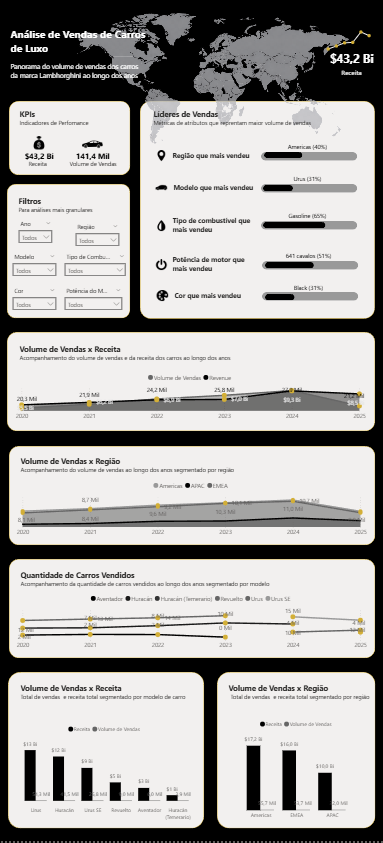

The dashboard page shown, as its layout file describes it:
{"tool":"powerbi","page":{"name":"Página 1","canvas":[800,2000],"ordinal":0},"visuals":[{"type":"shape","box":[450,1399.2,329.2,325],"z":0},{"type":"shape","box":[290.8,211.7,488.3,452.5],"z":1000},{"type":"shape","box":[16.7,1399.2,407.5,325],"z":2000},{"type":"image","box":[150.8,0,588.3,375],"z":3000},{"type":"textbox","box":[16,53,319,71],"z":4000},{"type":"textbox","box":[16,124,286,71],"z":5000},{"type":"card","fields":{"Values":["lamborghini_sales_2020_2025.Revenue"]},"box":[660,98,140,72],"z":6000},{"type":"lineChart","fields":{"Y":["lamborghini_sales_2020_2025.Revenue"],"Category":["lamborghini_sales_2020_2025.Year"]},"box":[668,48,132,76],"z":7000},{"type":"shape","box":[18,212,252,154],"z":8000},{"type":"card","fields":{"Values":["lamborghini_sales_2020_2025.Revenue"]},"box":[36,315,92,42],"z":9000},{"type":"card","fields":{"Values":["Sum(lamborghini_sales_2020_2025.Sales Volume)"]},"box":[123.3,315.8,140,42.5],"z":10000},{"type":"textbox","box":[36,222,212,36],"z":11000},{"type":"image","box":[148,280,88,43],"z":12000},{"type":"image","box":[55,284,53,28],"z":13000},{"type":"shape","box":[14,385,256,279],"z":14000},{"type":"textbox","box":[33,403,203,36],"z":15000},{"type":"textbox","box":[36,243,193,36],"z":16000},{"type":"textbox","box":[33,424,203,36],"z":17000},{"type":"textbox","box":[139,329,124,36],"z":18000},{"type":"textbox","box":[55,329,69,36],"z":19000},{"type":"slicer","fields":{"Values":["lamborghini_sales_2020_2025.Year"]},"box":[29,453,89,58],"z":20000},{"type":"slicer","fields":{"Values":["lamborghini_sales_2020_2025.Region"]},"box":[148,460,110,58],"z":21000},{"type":"slicer","fields":{"Values":["lamborghini_sales_2020_2025.Fuel Type"]},"box":[124,521,146,58],"z":22000},{"type":"slicer","fields":{"Values":["lamborghini_sales_2020_2025.Model"]},"box":[16,521,110,58],"z":23000},{"type":"slicer","fields":{"Values":["lamborghini_sales_2020_2025.Color"]},"box":[16,592,110,58],"z":24000},{"type":"slicer","fields":{"Values":["lamborghini_sales_2020_2025.Horsepower"]},"box":[124,592,139,58],"z":25000},{"type":"shape","box":[14,692,765,206],"z":26000},{"type":"textbox","box":[35,710,319,36],"z":27000},{"type":"textbox","box":[35,731,508,36],"z":28000},{"type":"lineChart","fields":{"Category":["lamborghini_sales_2020_2025.Year"],"Y":["Sum(lamborghini_sales_2020_2025.Sales Volume)"],"Y2":["lamborghini_sales_2020_2025.Revenue"]},"box":[27,767,738,118],"z":29000},{"type":"shape","box":[18,928,761,206],"z":30000},{"type":"lineChart","fields":{"Category":["lamborghini_sales_2020_2025.Year"],"Y":["Sum(lamborghini_sales_2020_2025.Sales Volume)"],"Series":["lamborghini_sales_2020_2025.Region"]},"box":[29,991,738,135],"z":31000},{"type":"textbox","box":[37,944,319,36],"z":32000},{"type":"textbox","box":[37,965,508,36],"z":33000},{"type":"clusteredColumnChart","fields":{"Category":["lamborghini_sales_2020_2025.Model"],"Y":["lamborghini_sales_2020_2025.Revenue","Sum(lamborghini_sales_2020_2025.Sales Volume)"]},"box":[14.2,1497.5,407.5,216.7],"z":34000},{"type":"textbox","box":[38,1416,319,36],"z":35000},{"type":"textbox","box":[38.3,1436.7,369.2,36.7],"z":36000},{"type":"shape","box":[18,1164,761,206],"z":37000},{"type":"lineChart","fields":{"Category":["lamborghini_sales_2020_2025.Year"],"Y":["Sum(lamborghini_sales_2020_2025.Sales Volume)"],"Series":["lamborghini_sales_2020_2025.Model"]},"box":[29,1227,738,135],"z":38000},{"type":"textbox","box":[37,1180,319,36],"z":39000},{"type":"textbox","box":[36.7,1200.8,545,35.8],"z":40000},{"type":"card","fields":{"Values":["lamborghini_sales_2020_2025.Regiao"]},"box":[543,290,193,36],"z":41000},{"type":"textbox","box":[314,222,319,36],"z":42000},{"type":"textbox","box":[314,243,440,36],"z":43000},{"type":"textbox","box":[354.2,309.2,179.2,35.8],"z":44000},{"type":"shape","box":[543,317,200,18],"z":45000},{"type":"image","box":[302.5,313.3,64.2,22.5],"z":46000},{"type":"shape","box":[548,319,80,13],"z":47000},{"type":"card","fields":{"Values":["lamborghini_sales_2020_2025.Modelo"]},"box":[542,358,193,36],"z":48000},{"type":"textbox","box":[355.8,376.7,177.5,36.7],"z":49000},{"type":"shape","box":[542,385,200,18],"z":50000},{"type":"image","box":[302.5,380.8,64.2,23.3],"z":51000},{"type":"shape","box":[546.7,387.5,62.5,13.3],"z":52000},{"type":"card","fields":{"Values":["lamborghini_sales_2020_2025.Tipo de Combustivel"]},"box":[542,435,193,36],"z":53000},{"type":"textbox","box":[354.2,445,179.2,49.2],"z":54000},{"type":"shape","box":[542,462,200,18],"z":55000},{"type":"image","box":[302.5,459.2,64.2,22.5],"z":56000},{"type":"shape","box":[547,464,130,13],"z":57000},{"type":"card","fields":{"Values":["lamborghini_sales_2020_2025.Potencia do Motor"]},"box":[545,518,193,36],"z":58000},{"type":"textbox","box":[354.2,526.7,180.8,53.3],"z":59000},{"type":"shape","box":[545,545,200,18],"z":60000},{"type":"image","box":[304.2,540.8,64.2,23.3],"z":61000},{"type":"shape","box":[550,547.5,101.7,13.3],"z":62000},{"type":"card","fields":{"Values":["lamborghini_sales_2020_2025.Cor Mais Vendida"]},"box":[545,583,193,36],"z":63000},{"type":"textbox","box":[357.5,601.7,177.5,36.7],"z":64000},{"type":"shape","box":[545,610,200,18],"z":65000},{"type":"image","box":[305,605.8,64.2,23.3],"z":66000},{"type":"shape","box":[550,612.5,61.7,13.3],"z":67000},{"type":"clusteredColumnChart","fields":{"Y":["lamborghini_sales_2020_2025.Revenue","Sum(lamborghini_sales_2020_2025.Sales Volume)"],"Category":["lamborghini_sales_2020_2025.Region"]},"box":[478.3,1487.5,277.5,226.7],"z":68000},{"type":"textbox","box":[470,1415.8,295,35.8],"z":69000},{"type":"textbox","box":[473.3,1436.7,314.2,36.7],"z":70000}]}

Visuals, with their boxes on the page's 800x2000 design canvas (x1, y1, x2, y2). These are canvas units, not pixel positions in the 383x843 screenshot, which may show the page scaled, cropped or inside an application window:
shape: {"left": 450, "top": 1399, "right": 779, "bottom": 1724}
shape: {"left": 291, "top": 212, "right": 779, "bottom": 664}
shape: {"left": 17, "top": 1399, "right": 424, "bottom": 1724}
image: {"left": 151, "top": 0, "right": 739, "bottom": 375}
textbox: {"left": 16, "top": 53, "right": 335, "bottom": 124}
textbox: {"left": 16, "top": 124, "right": 302, "bottom": 195}
card - lamborghini_sales_2020_2025.Revenue: {"left": 660, "top": 98, "right": 800, "bottom": 170}
lineChart - lamborghini_sales_2020_2025.Revenue x lamborghini_sales_2020_2025.Year: {"left": 668, "top": 48, "right": 800, "bottom": 124}
shape: {"left": 18, "top": 212, "right": 270, "bottom": 366}
card - lamborghini_sales_2020_2025.Revenue: {"left": 36, "top": 315, "right": 128, "bottom": 357}
card - Sum(lamborghini_sales_2020_2025.Sales Volume): {"left": 123, "top": 316, "right": 263, "bottom": 358}
textbox: {"left": 36, "top": 222, "right": 248, "bottom": 258}
image: {"left": 148, "top": 280, "right": 236, "bottom": 323}
image: {"left": 55, "top": 284, "right": 108, "bottom": 312}
shape: {"left": 14, "top": 385, "right": 270, "bottom": 664}
textbox: {"left": 33, "top": 403, "right": 236, "bottom": 439}
textbox: {"left": 36, "top": 243, "right": 229, "bottom": 279}
textbox: {"left": 33, "top": 424, "right": 236, "bottom": 460}
textbox: {"left": 139, "top": 329, "right": 263, "bottom": 365}
textbox: {"left": 55, "top": 329, "right": 124, "bottom": 365}
slicer - lamborghini_sales_2020_2025.Year: {"left": 29, "top": 453, "right": 118, "bottom": 511}
slicer - lamborghini_sales_2020_2025.Region: {"left": 148, "top": 460, "right": 258, "bottom": 518}
slicer - lamborghini_sales_2020_2025.Fuel Type: {"left": 124, "top": 521, "right": 270, "bottom": 579}
slicer - lamborghini_sales_2020_2025.Model: {"left": 16, "top": 521, "right": 126, "bottom": 579}
slicer - lamborghini_sales_2020_2025.Color: {"left": 16, "top": 592, "right": 126, "bottom": 650}
slicer - lamborghini_sales_2020_2025.Horsepower: {"left": 124, "top": 592, "right": 263, "bottom": 650}
shape: {"left": 14, "top": 692, "right": 779, "bottom": 898}
textbox: {"left": 35, "top": 710, "right": 354, "bottom": 746}
textbox: {"left": 35, "top": 731, "right": 543, "bottom": 767}
lineChart - lamborghini_sales_2020_2025.Year x Sum(lamborghini_sales_2020_2025.Sales Volume): {"left": 27, "top": 767, "right": 765, "bottom": 885}
shape: {"left": 18, "top": 928, "right": 779, "bottom": 1134}
lineChart - lamborghini_sales_2020_2025.Year x Sum(lamborghini_sales_2020_2025.Sales Volume): {"left": 29, "top": 991, "right": 767, "bottom": 1126}
textbox: {"left": 37, "top": 944, "right": 356, "bottom": 980}
textbox: {"left": 37, "top": 965, "right": 545, "bottom": 1001}
clusteredColumnChart - lamborghini_sales_2020_2025.Model x lamborghini_sales_2020_2025.Revenue: {"left": 14, "top": 1498, "right": 422, "bottom": 1714}
textbox: {"left": 38, "top": 1416, "right": 357, "bottom": 1452}
textbox: {"left": 38, "top": 1437, "right": 408, "bottom": 1473}
shape: {"left": 18, "top": 1164, "right": 779, "bottom": 1370}
lineChart - lamborghini_sales_2020_2025.Year x Sum(lamborghini_sales_2020_2025.Sales Volume): {"left": 29, "top": 1227, "right": 767, "bottom": 1362}
textbox: {"left": 37, "top": 1180, "right": 356, "bottom": 1216}
textbox: {"left": 37, "top": 1201, "right": 582, "bottom": 1237}
card - lamborghini_sales_2020_2025.Regiao: {"left": 543, "top": 290, "right": 736, "bottom": 326}
textbox: {"left": 314, "top": 222, "right": 633, "bottom": 258}
textbox: {"left": 314, "top": 243, "right": 754, "bottom": 279}
textbox: {"left": 354, "top": 309, "right": 533, "bottom": 345}
shape: {"left": 543, "top": 317, "right": 743, "bottom": 335}
image: {"left": 302, "top": 313, "right": 367, "bottom": 336}
shape: {"left": 548, "top": 319, "right": 628, "bottom": 332}
card - lamborghini_sales_2020_2025.Modelo: {"left": 542, "top": 358, "right": 735, "bottom": 394}
textbox: {"left": 356, "top": 377, "right": 533, "bottom": 413}
shape: {"left": 542, "top": 385, "right": 742, "bottom": 403}
image: {"left": 302, "top": 381, "right": 367, "bottom": 404}
shape: {"left": 547, "top": 388, "right": 609, "bottom": 401}
card - lamborghini_sales_2020_2025.Tipo de Combustivel: {"left": 542, "top": 435, "right": 735, "bottom": 471}
textbox: {"left": 354, "top": 445, "right": 533, "bottom": 494}
shape: {"left": 542, "top": 462, "right": 742, "bottom": 480}
image: {"left": 302, "top": 459, "right": 367, "bottom": 482}
shape: {"left": 547, "top": 464, "right": 677, "bottom": 477}
card - lamborghini_sales_2020_2025.Potencia do Motor: {"left": 545, "top": 518, "right": 738, "bottom": 554}
textbox: {"left": 354, "top": 527, "right": 535, "bottom": 580}
shape: {"left": 545, "top": 545, "right": 745, "bottom": 563}
image: {"left": 304, "top": 541, "right": 368, "bottom": 564}
shape: {"left": 550, "top": 548, "right": 652, "bottom": 561}
card - lamborghini_sales_2020_2025.Cor Mais Vendida: {"left": 545, "top": 583, "right": 738, "bottom": 619}
textbox: {"left": 358, "top": 602, "right": 535, "bottom": 638}
shape: {"left": 545, "top": 610, "right": 745, "bottom": 628}
image: {"left": 305, "top": 606, "right": 369, "bottom": 629}
shape: {"left": 550, "top": 612, "right": 612, "bottom": 626}
clusteredColumnChart - lamborghini_sales_2020_2025.Revenue x Sum(lamborghini_sales_2020_2025.Sales Volume): {"left": 478, "top": 1488, "right": 756, "bottom": 1714}
textbox: {"left": 470, "top": 1416, "right": 765, "bottom": 1452}
textbox: {"left": 473, "top": 1437, "right": 788, "bottom": 1473}
